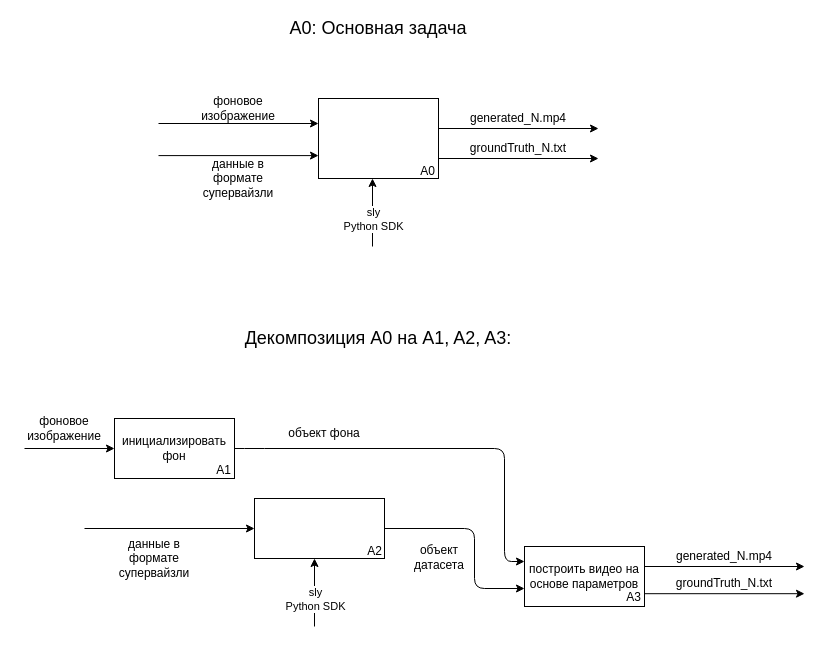
Image size: 830x652. Some labels were removed from this diagram. The box of each missing label's shape, as (x1, y1, x2, y2) in pixels:
Video Synth: (318, 98, 438, 178)
инициализировать датасет: (254, 498, 384, 558)
